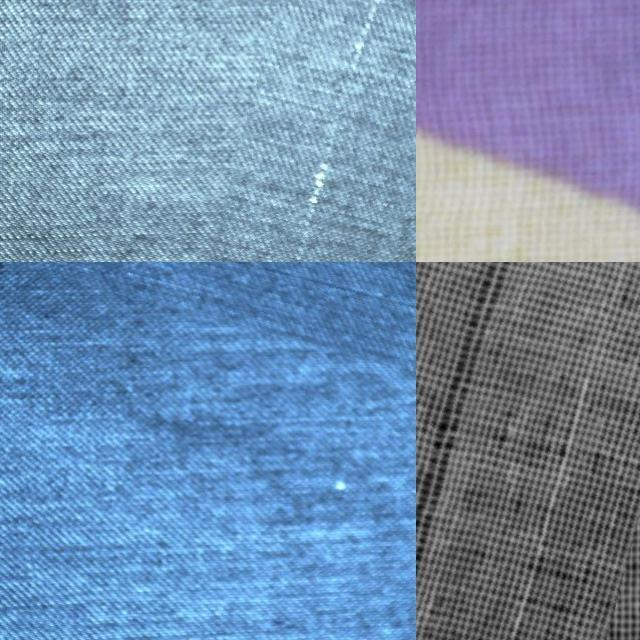stains: (416, 262, 640, 640), (217, 0, 416, 262), (0, 262, 416, 341)
